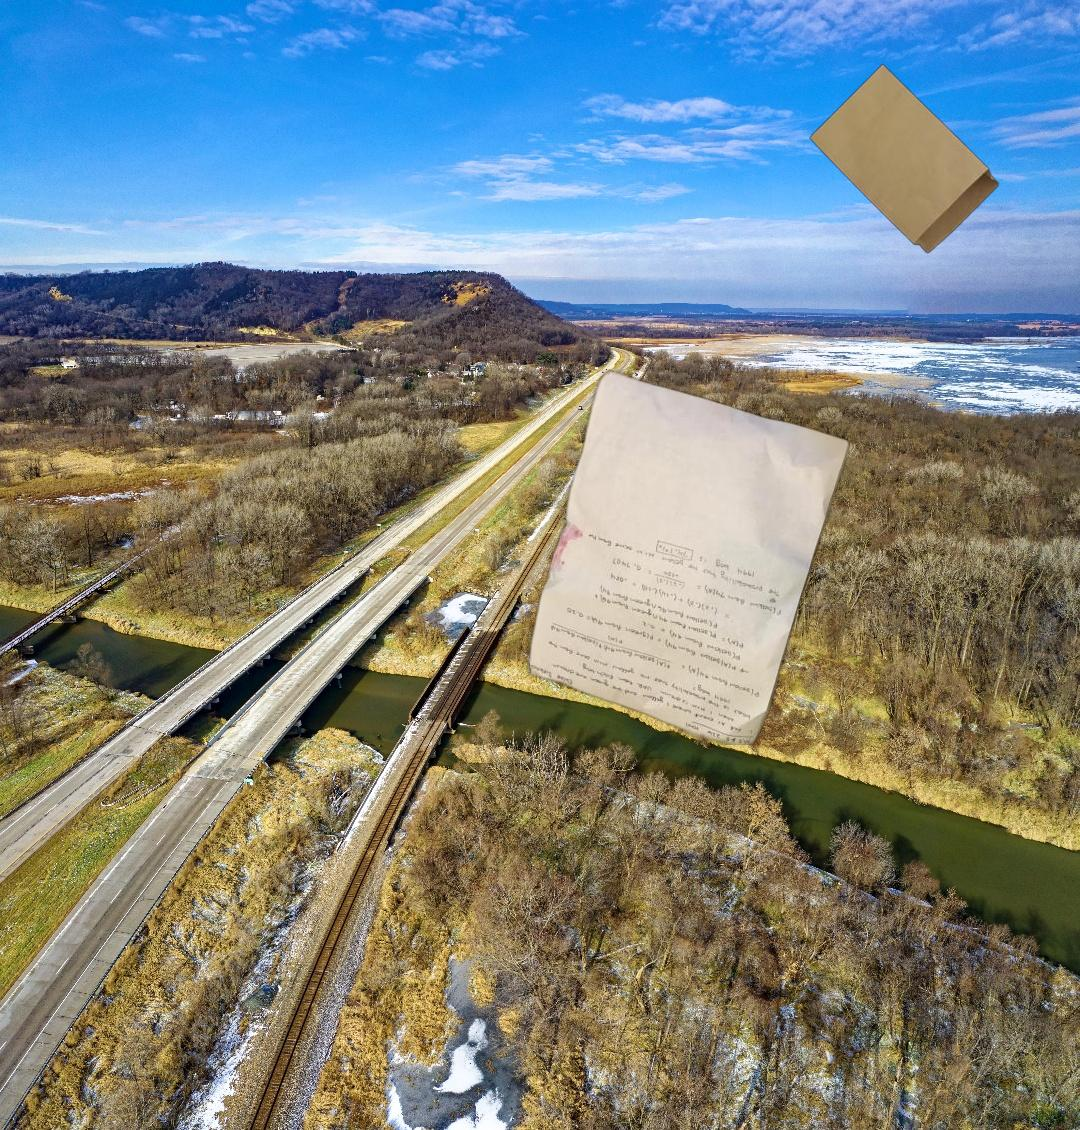paper: (524, 366, 854, 745)
paper-bag: (807, 63, 1000, 256)
